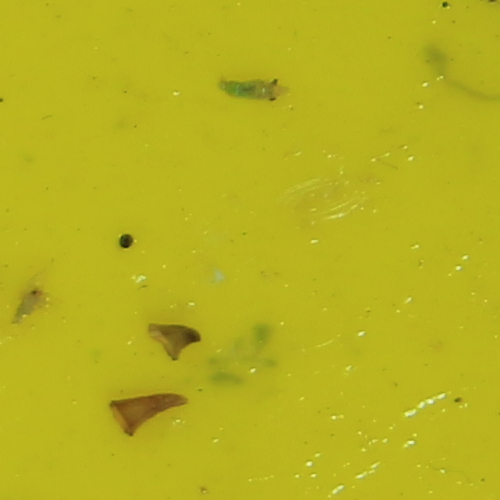psylla: (218, 74, 292, 102), (11, 280, 54, 323)
